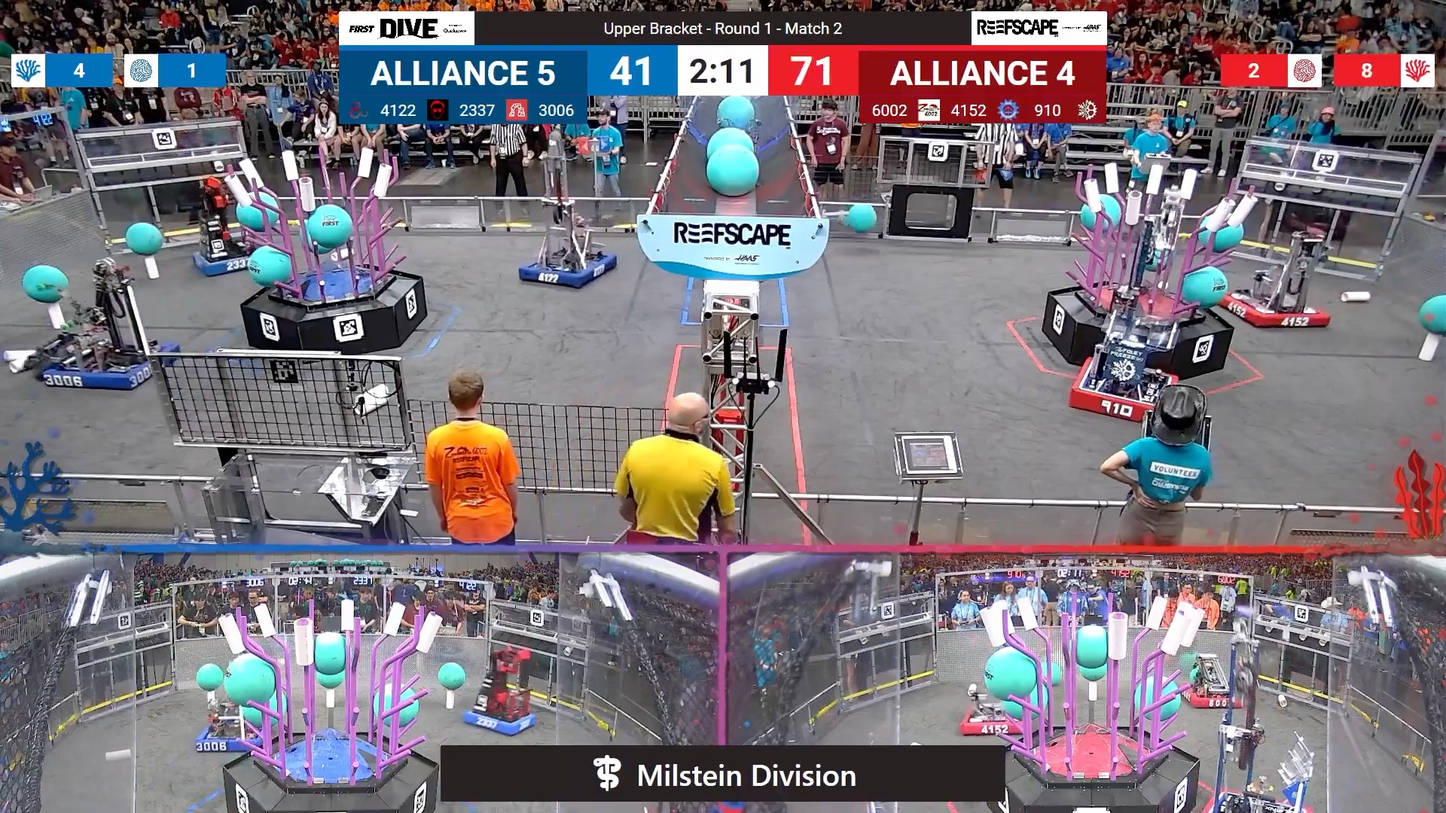bumpers: (31, 340, 182, 394), (1064, 361, 1176, 426), (1214, 291, 1333, 336), (960, 685, 1047, 743), (514, 248, 625, 291), (193, 708, 290, 755), (455, 702, 546, 740), (184, 244, 271, 279), (1179, 679, 1255, 715)
